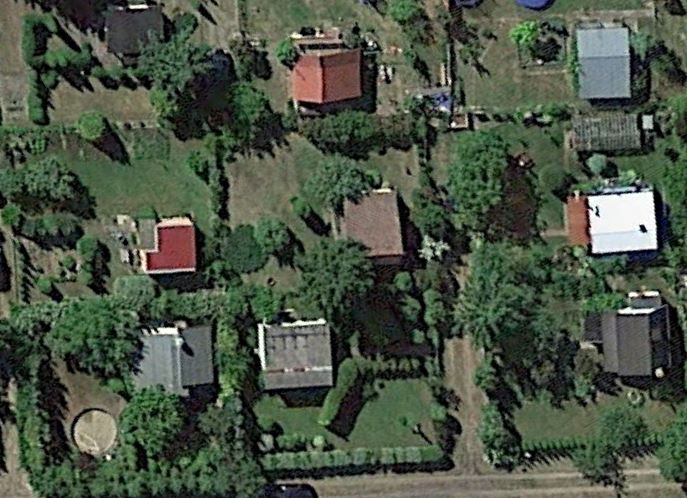family house: (579, 284, 676, 382), (122, 316, 220, 405), (560, 181, 665, 255), (289, 29, 370, 121), (253, 312, 337, 393), (328, 184, 408, 267), (572, 18, 636, 107), (102, 3, 169, 69), (136, 212, 202, 275)
